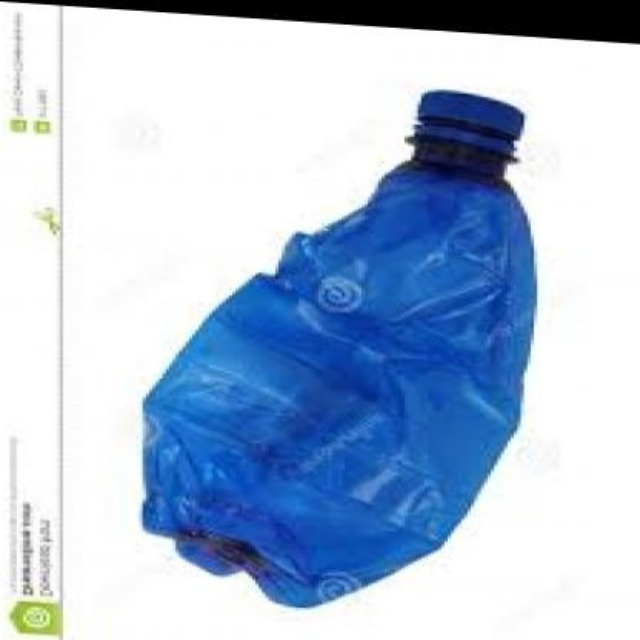trash: (143, 91, 534, 605)
